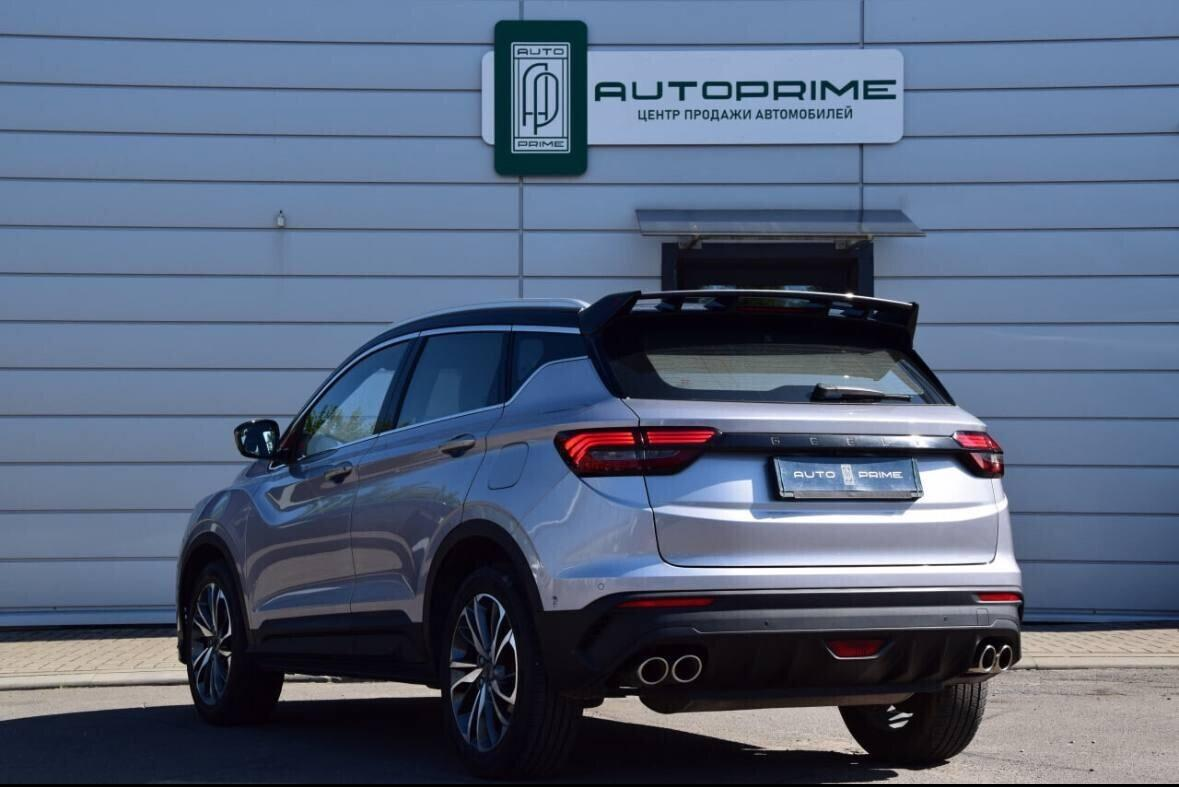Coolray_2019-2023: (172, 284, 1023, 771)
